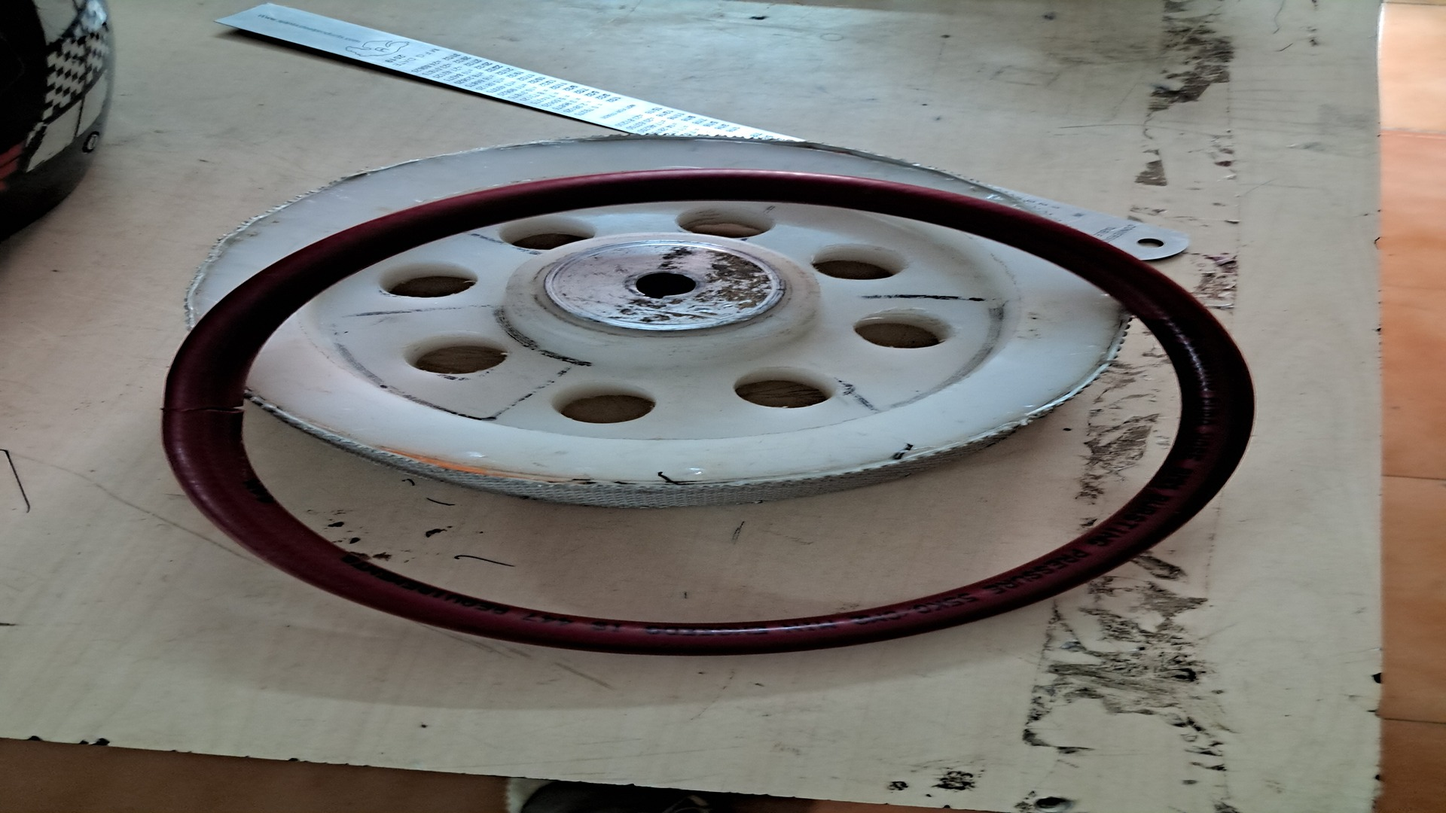Red ring: (157, 169, 1264, 646)
